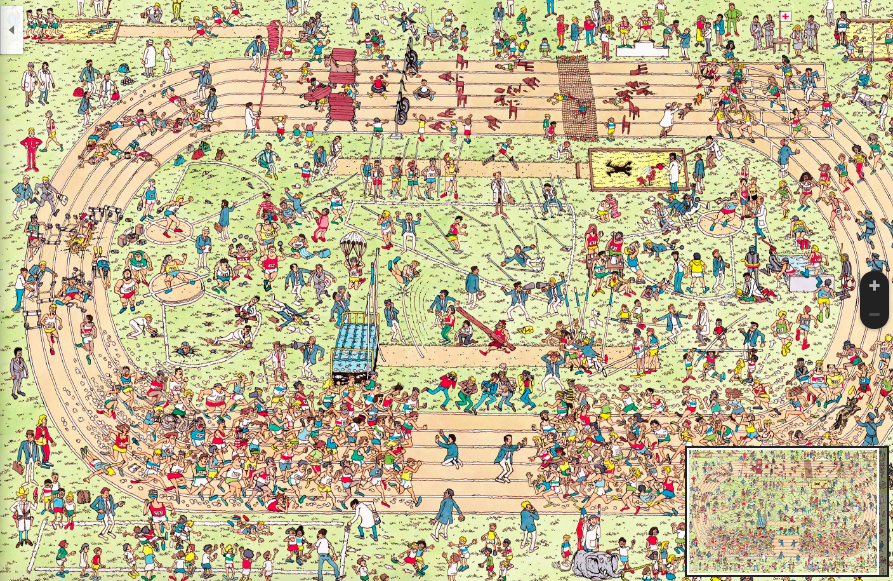waldo: (254, 190, 283, 229)
